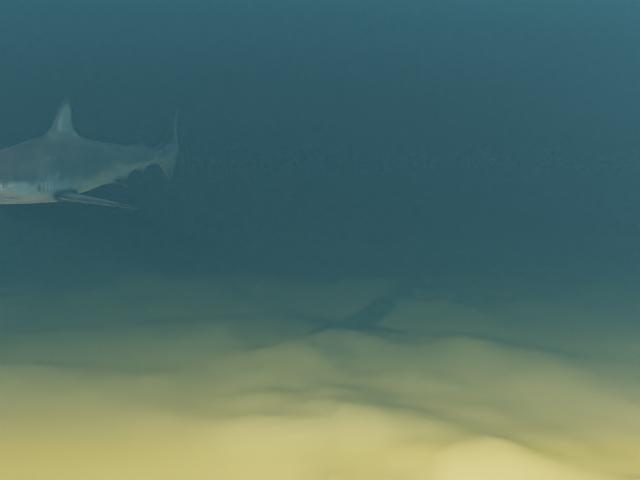Carribean Shark.001: (0, 96, 179, 209)
